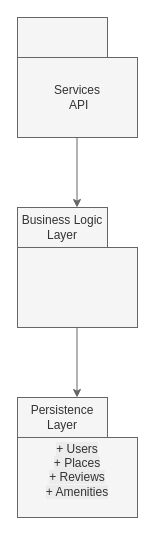
This 155x545 diagram has some shape labels left out. Each missing label, with the centre of its shape:
"+ UserModel + PlaceModel + ReviewsModel + AmenityModel" belongs at pixel 77 287.
"Presentation Layer" belongs at pixel 62 37.
